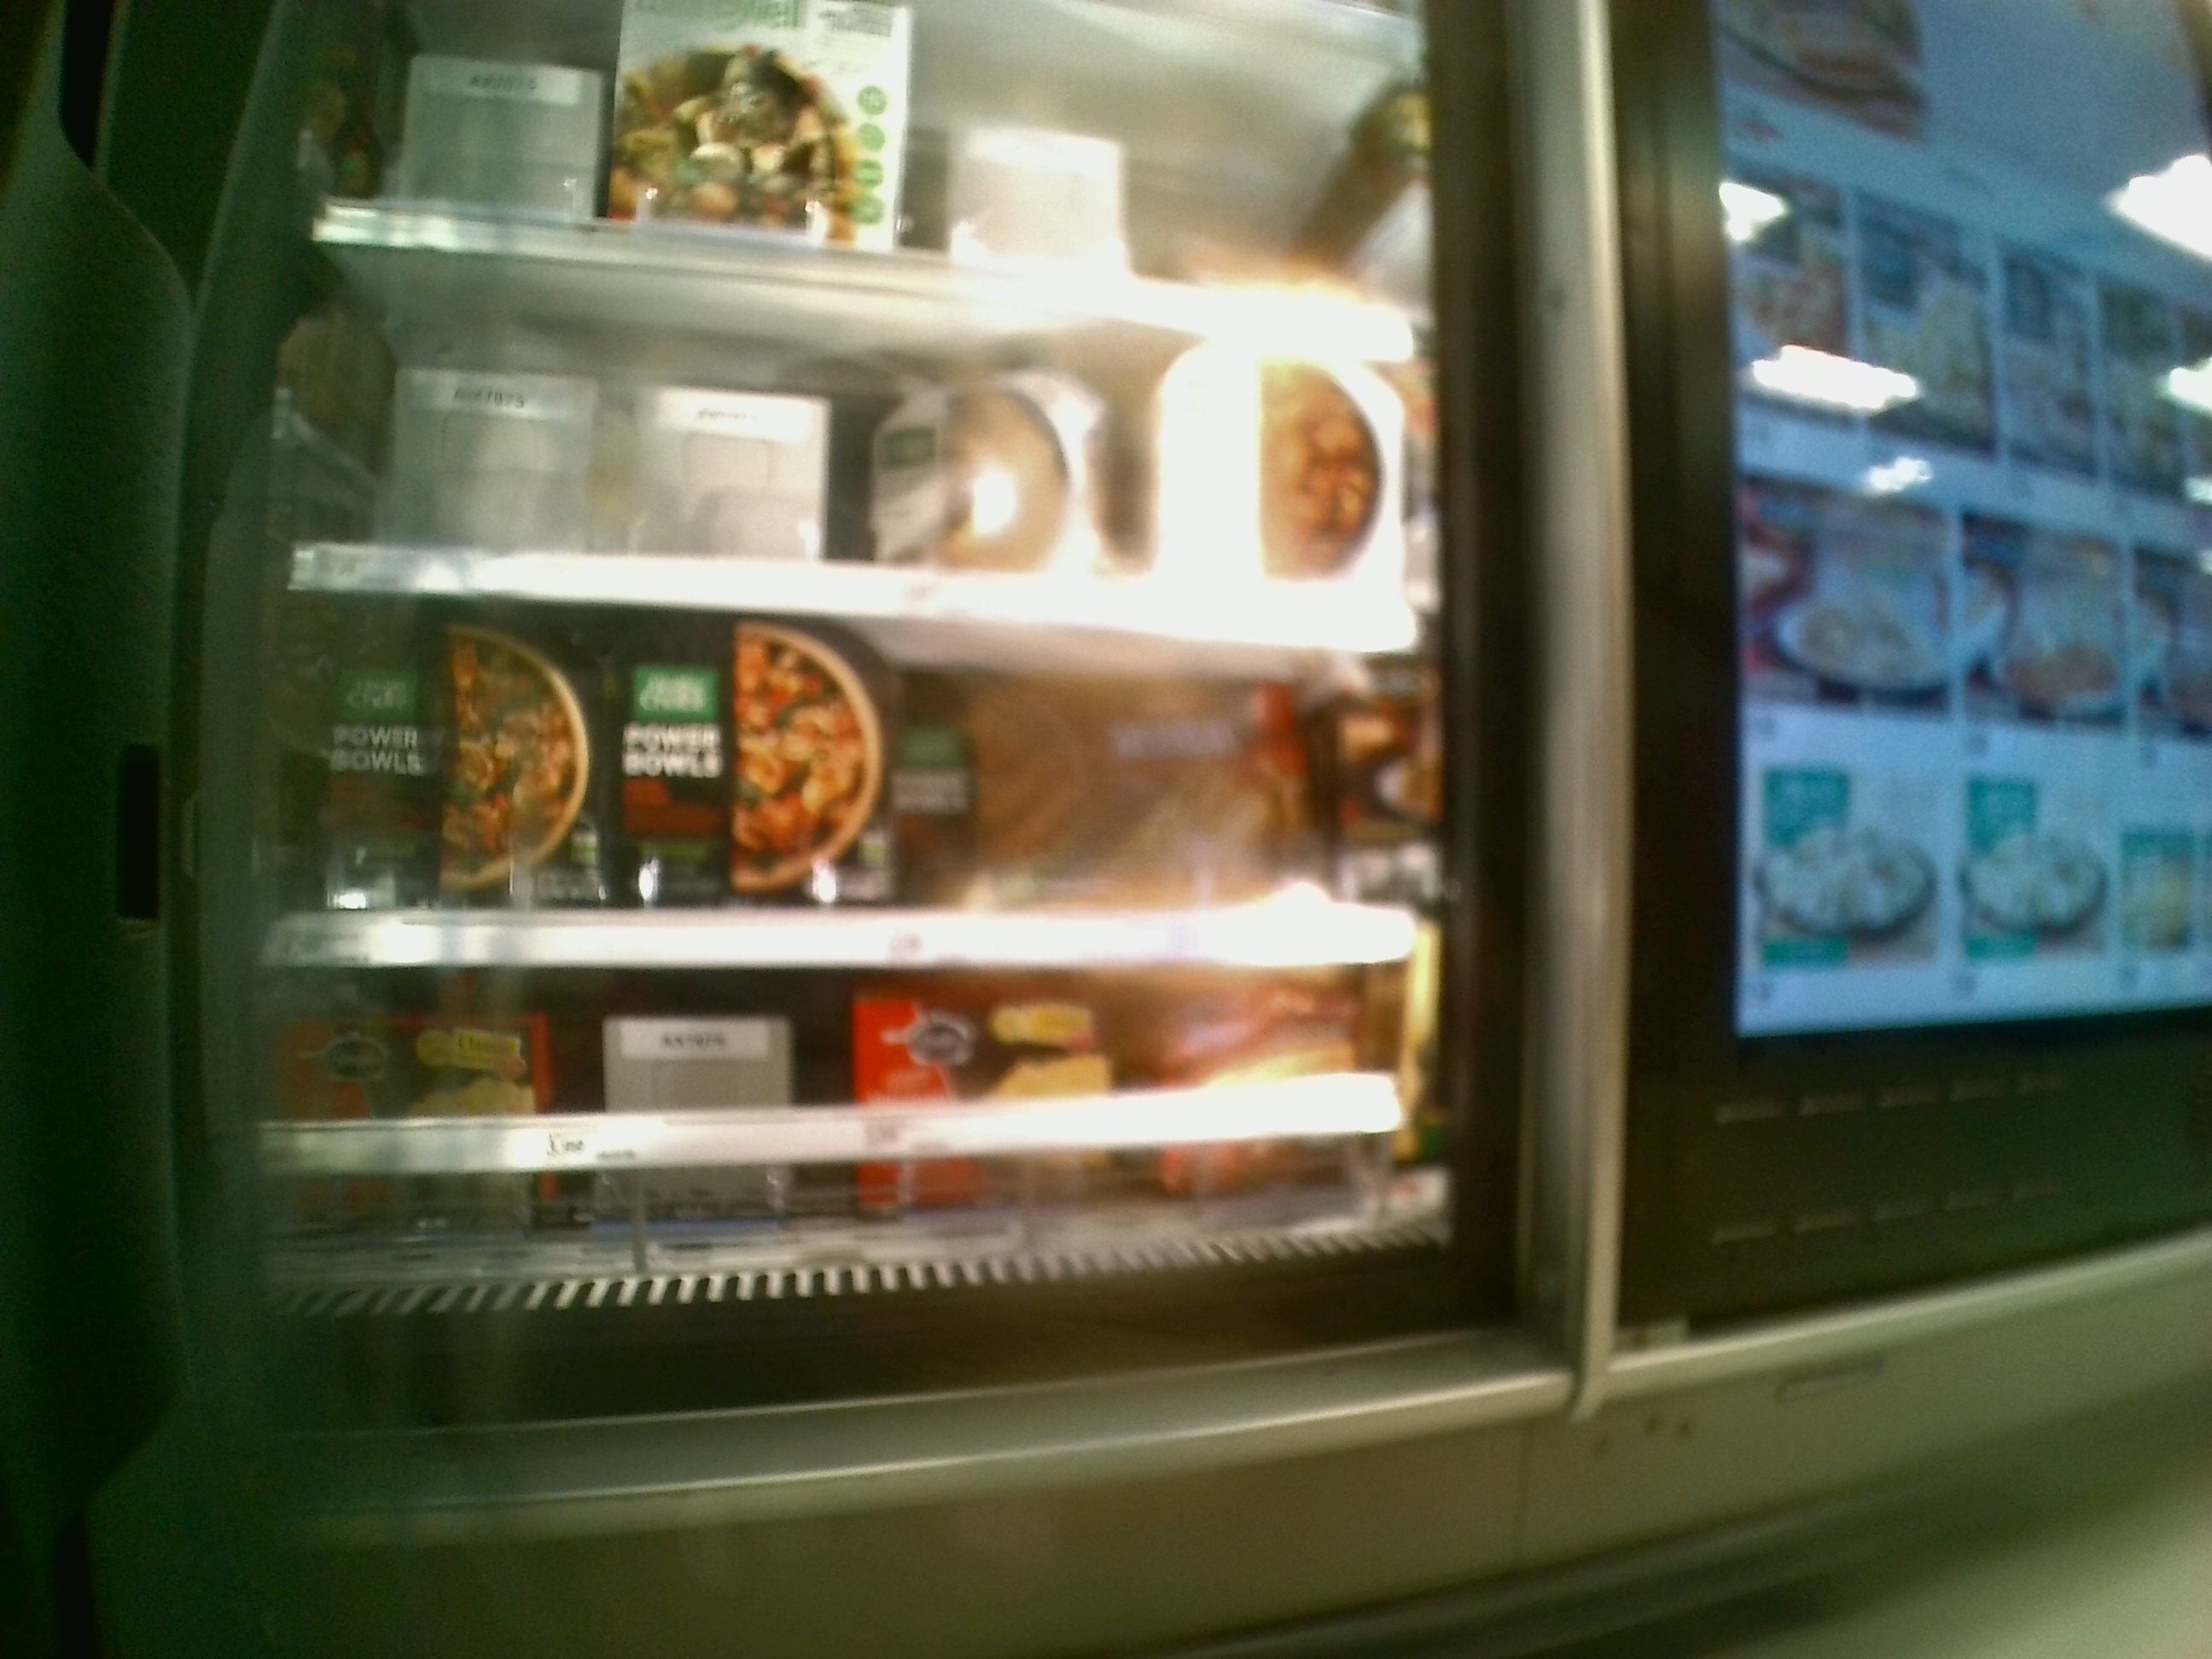shelf: (249, 587, 1458, 972), (254, 967, 1447, 1321)
